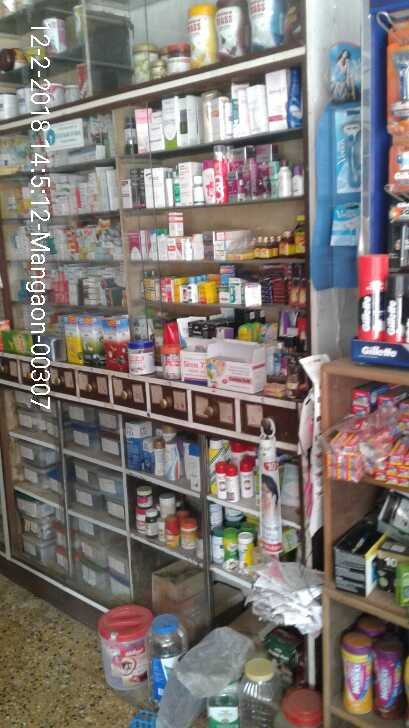beauty: (336, 113, 368, 195), (358, 256, 386, 336), (386, 273, 409, 351), (328, 207, 369, 246)
